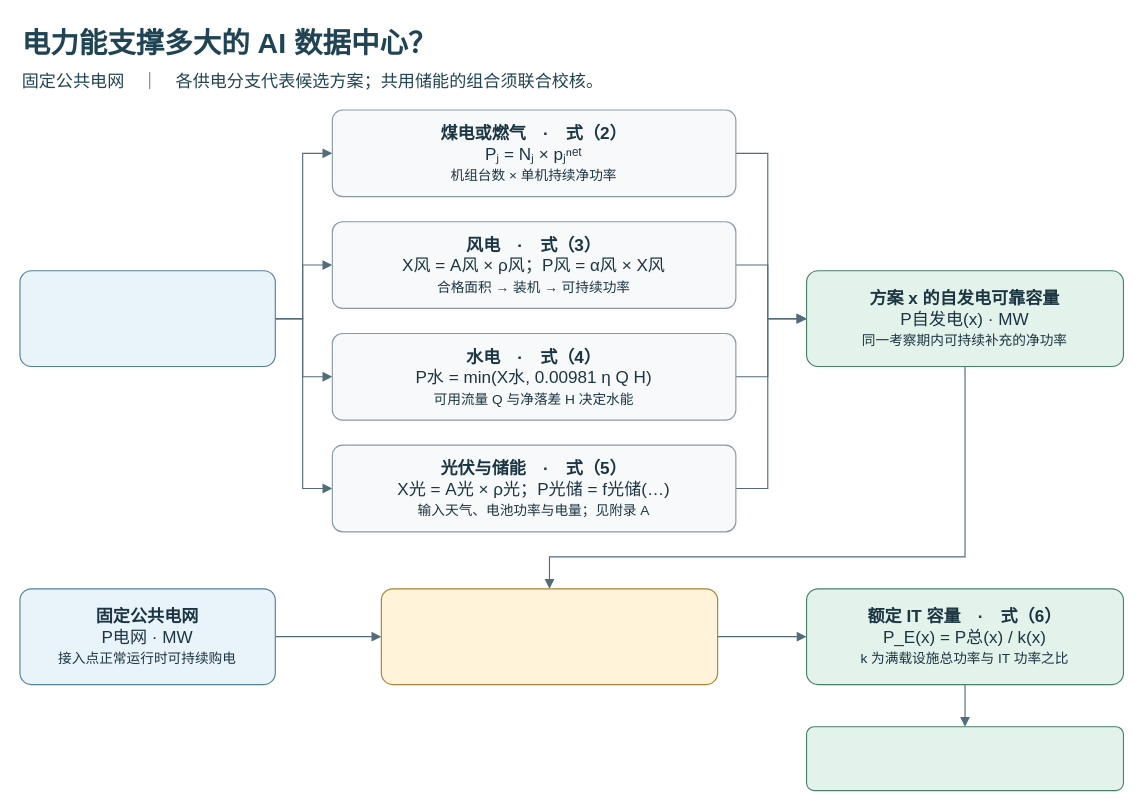
Image size: 1146x811. Some labels were removed from this diagram. The shapes that lost their labels are listed below. From the top down, each one's centre as x and y in pixels, then its label:
At [147,318]: "场址与候选配置 x 配套用地、气象与可用资源 水电限具备开发条件的场址".
At [549,636]: "园区可靠总功率 · 式（1） P总(x) = P电网 + P自发电(x) 两路功率须能同时送达".
At [964,758]: "电力分项上限 P_E = maxₓ P_E(x) · MW IT".
